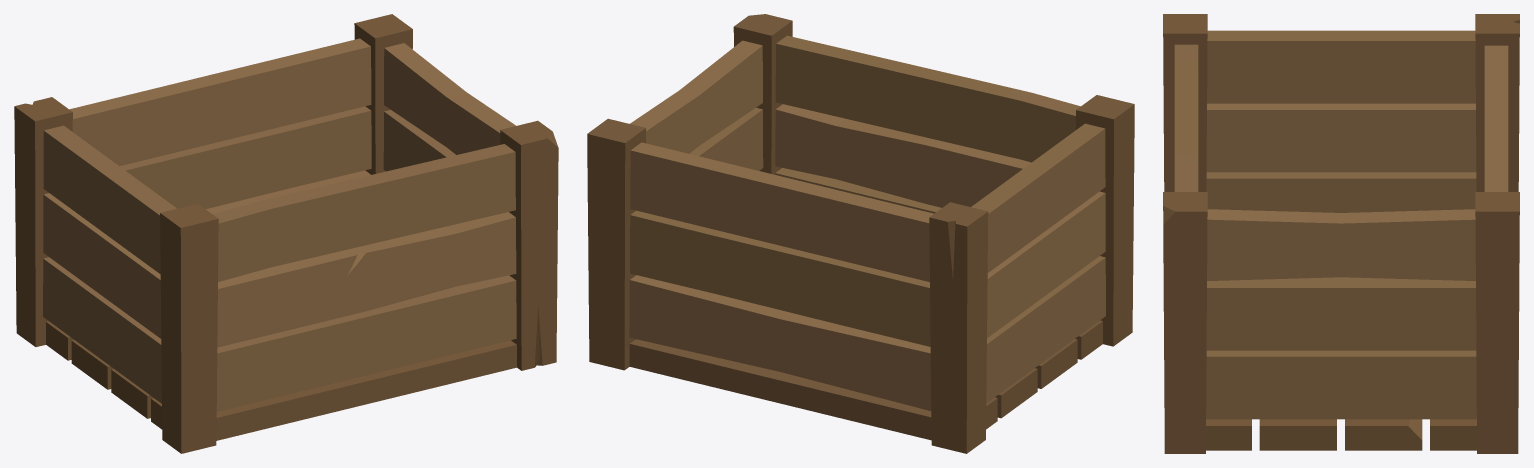
File: SM_WoodenBox_Hide.obj
3 views of the same model, side by side, from view 1: azimuth 30°, elevation 25°; view 2: azimuth 150°, elevation 25°; view 3: azimuth 270°, elevation 25° (orthographic). The views are drawn at different scales.
Visible parts, largest first — view 1: SM_WoodenBox_Hide_Mat_SwatchOverlay_Farm_01_Wood_Inst; view 2: SM_WoodenBox_Hide_Mat_SwatchOverlay_Farm_01_Wood_Inst; view 3: SM_WoodenBox_Hide_Mat_SwatchOverlay_Farm_01_Wood_Inst.
Boxes of the visible parts, <box> form: SM_WoodenBox_Hide_Mat_SwatchOverlay_Farm_01_Wood_Inst: <box>14,14,558,453</box>; SM_WoodenBox_Hide_Mat_SwatchOverlay_Farm_01_Wood_Inst: <box>587,14,1134,453</box>; SM_WoodenBox_Hide_Mat_SwatchOverlay_Farm_01_Wood_Inst: <box>1163,14,1519,453</box>.
Size of the model in its own units: 1.17 by 0.6685 by 0.889.
Materials: 1 (1 with a texture image).
